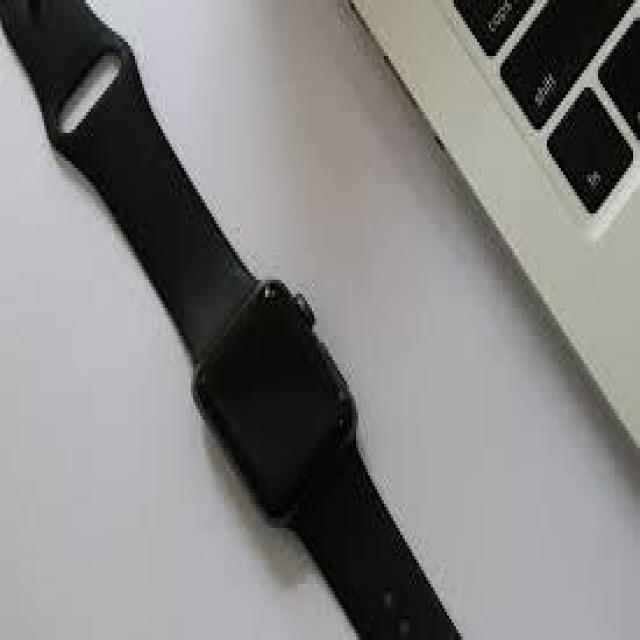watch: (25, 0, 450, 640)
